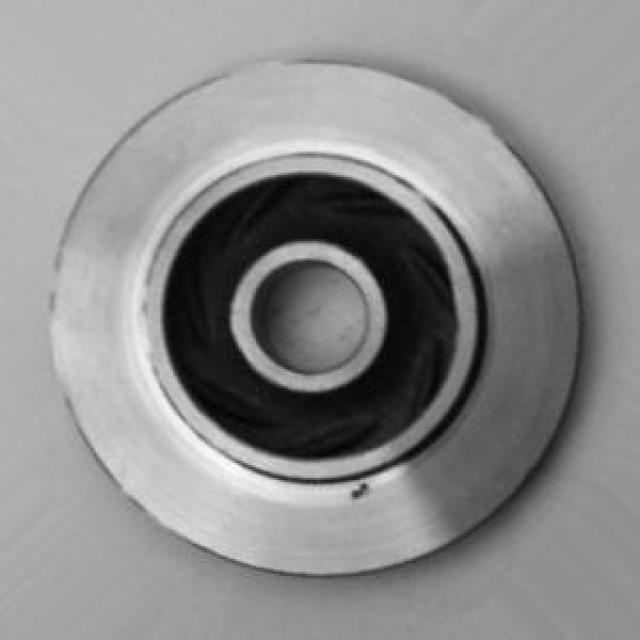Defect: (347, 481, 378, 506)
